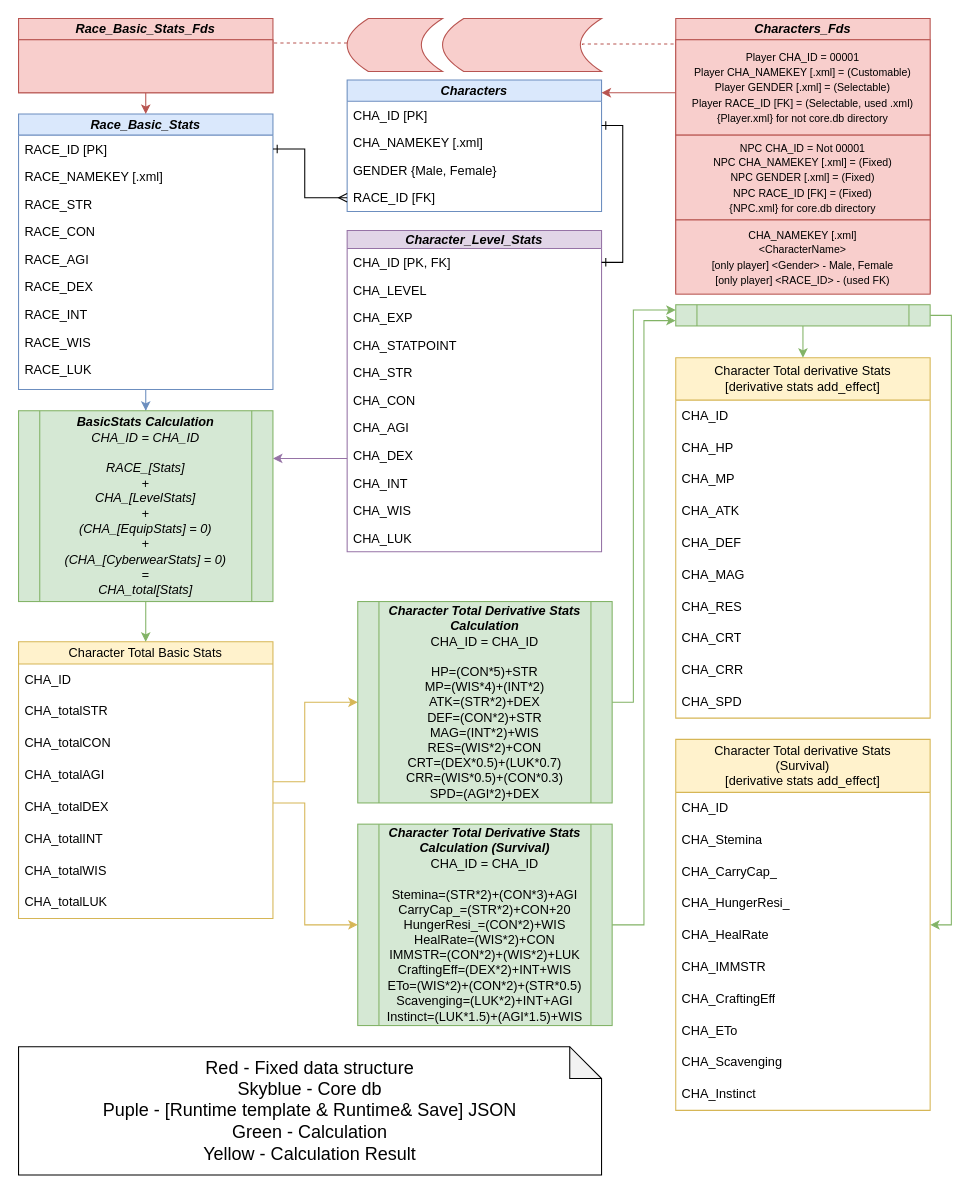
The diagram is 978 pixels wide and 1194 high, and some of its shapes have lost their labels. The centre of each missing label's shape, as x and y in pixels:
(CHA + EQUIP + CW)_D_STATS: point 802,315
Player.xml, NPC.xml: point 521,44
Race.xml: point 394,44
RACE_NAMEKEY [.xml] <RaceName> <RaceDesc>: point 145,66
